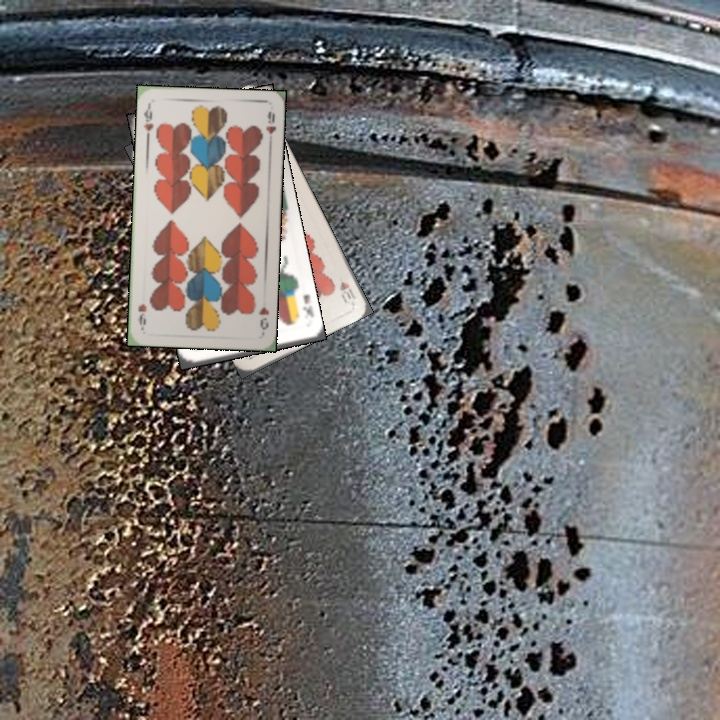EK: (298, 290, 316, 320)
H10: (335, 278, 358, 306)
H9: (140, 101, 156, 133), (255, 302, 271, 332)
